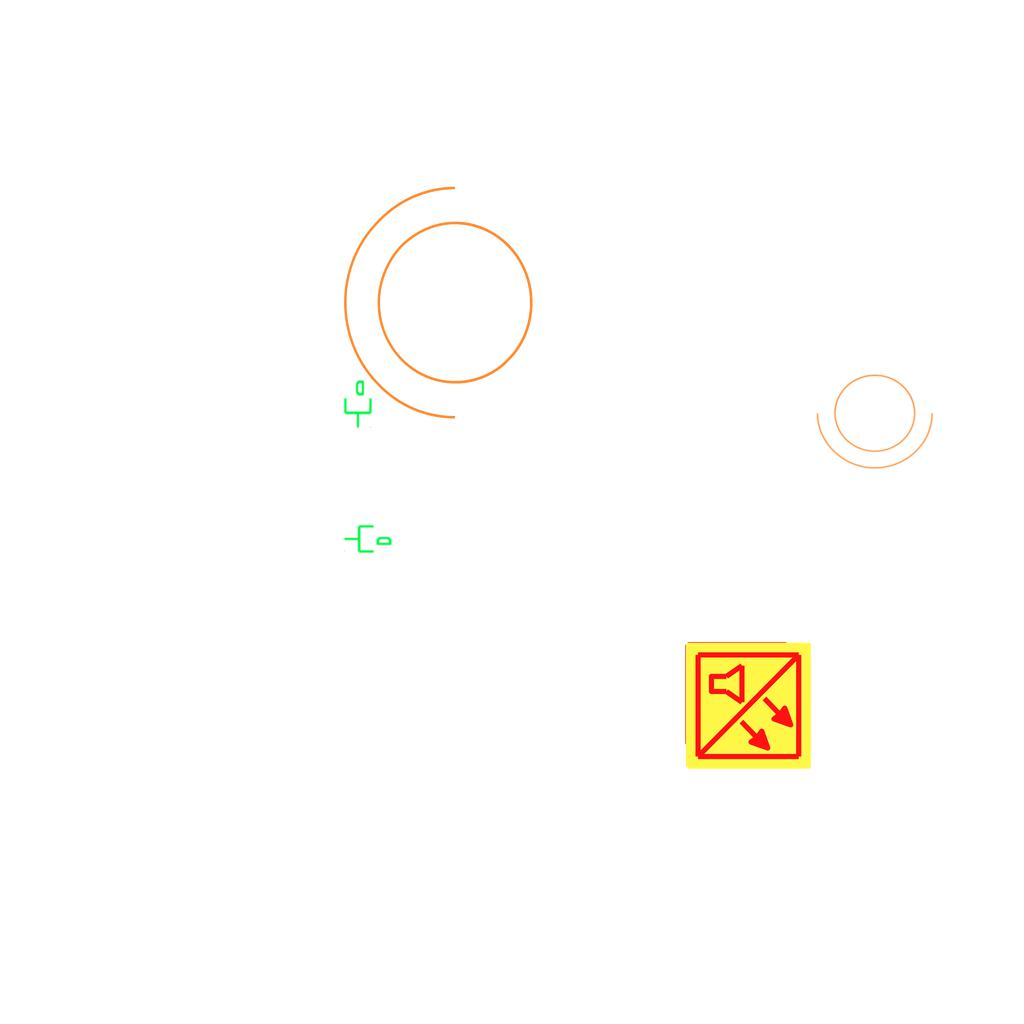Datenanschluss_einfach: (343, 521, 393, 555), (340, 379, 374, 429)
OKW_Multisensormelder_(Kombination_optischer_Rauch-Kahlenmonoxid_Waerme-Melder): (682, 640, 814, 772)
Scheinwerfer_fuer_Alarmbeleuchtung: (333, 177, 558, 441), (812, 362, 944, 474)
